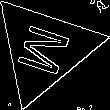M_E: (11, 18, 77, 79)
